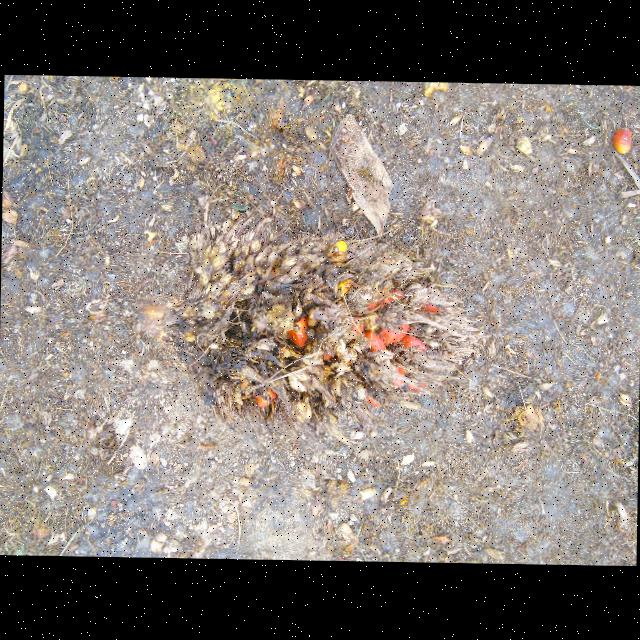Overripe: (135, 219, 484, 440)
